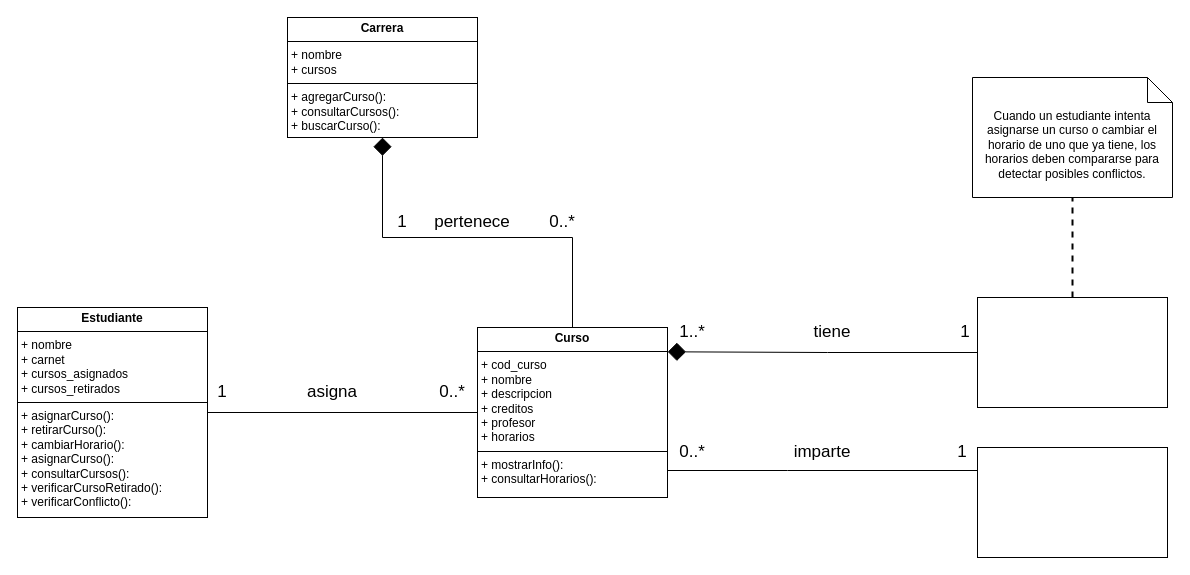
Image size: 1190x575. Some labels were removed from this diagram. The box of each missing label's shape, as (x1, y1, x2, y2) in pixels:
Horario + dia + hora_inicio + hora_fin + verificarConflicto():: (976, 296, 1168, 408)
Profesor + nombre + cod_prof + especialidad + mostrarInfo():: (976, 446, 1168, 558)
